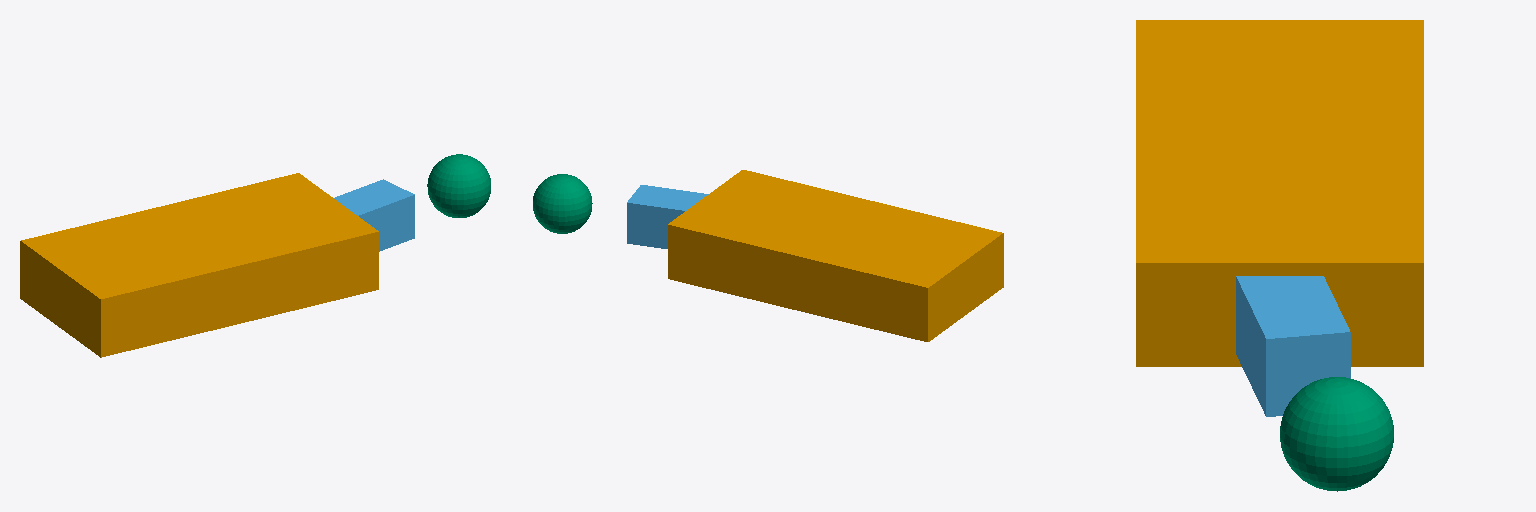
URDF robot description (synthetic_hand):
<robot name="synthetic_hand">
  <link name="palm">
    <visual><origin xyz="0 0 0" rpy="0 0 0"/><geometry><box size="0.2 0.1 0.04"/></geometry></visual>
    <collision><origin xyz="0 0 0" rpy="0 0 0"/><geometry><box size="0.2 0.1 0.04"/></geometry></collision>
  </link>
  <link name="link1">
    <visual><origin xyz="0 0 0" rpy="0 0 0"/><geometry><box size="0.1 0.03 0.03"/></geometry></visual>
    <collision><origin xyz="0 0 0" rpy="0 0 0"/><geometry><cylinder radius="0.02" length="0.1"/></geometry></collision>
  </link>
  <link name="link2">
    <visual><origin xyz="0 0 0" rpy="0 0 0"/><geometry><sphere radius="0.02"/></geometry></visual>
  </link>
  <link name="tip"/>
  <joint name="bend" type="revolute">
    <parent link="palm"/><child link="link1"/>
    <origin xyz="0.1 0 0" rpy="0 0 0.2"/>
    <axis xyz="0 0 2"/>
    <limit lower="-1" upper="1" effort="2" velocity="3"/>
  </joint>
  <joint name="slide" type="prismatic">
    <parent link="link1"/><child link="link2"/>
    <origin xyz="0.1 0 0" rpy="0 0 0"/>
    <axis xyz="0 0 4"/>
    <limit lower="0" upper="0.05" effort="2" velocity="3"/>
  </joint>
  <joint name="tip_fixed" type="fixed">
    <parent link="link2"/><child link="tip"/>
    <origin xyz="0.05 0 0" rpy="0 0 0"/>
  </joint>
</robot>

--- Render facts (derived) ---
The picture shows the robot from 3 angles, left to right: view 1: azimuth 30°, elevation 25°; view 2: azimuth 150°, elevation 25°; view 3: azimuth 270°, elevation 25°; orthographic projection.
Robot: synthetic_hand — 4 links, 3 joints (1 revolute, 1 prismatic, 1 fixed); root link palm; default pose: all joints at 0.
Visible links, largest first — view 1: palm, link1, link2; view 2: palm, link1, link2; view 3: palm, link1, link2.
Link boxes in pixels (x1,y1,x2,y2): palm: (20, 173, 378, 357); link1: (334, 179, 414, 251); link2: (427, 154, 490, 217); palm: (668, 170, 1003, 341); link1: (627, 185, 708, 248); link2: (533, 174, 592, 233); palm: (1136, 20, 1423, 366); link1: (1236, 276, 1350, 416); link2: (1280, 377, 1393, 491).
Size in the robot's own frame: 0.318 by 0.1 by 0.04 metres.
Geometry: primitives only (box / cylinder / sphere), no mesh files.
